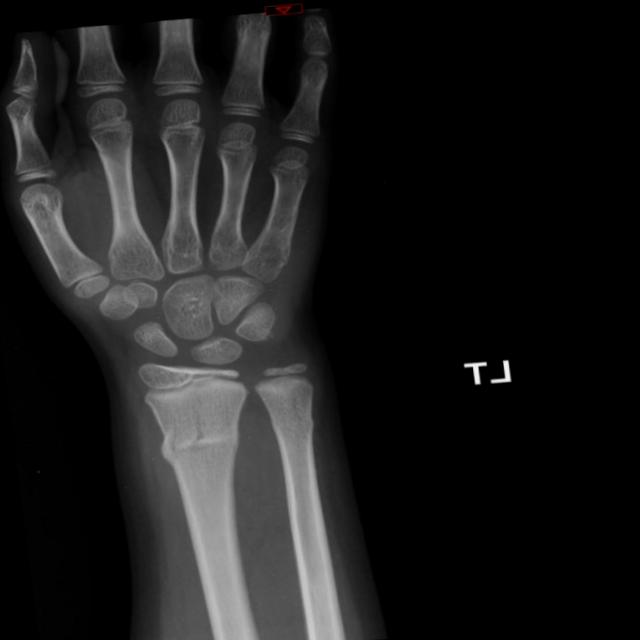Linear: (161, 392, 238, 486)
